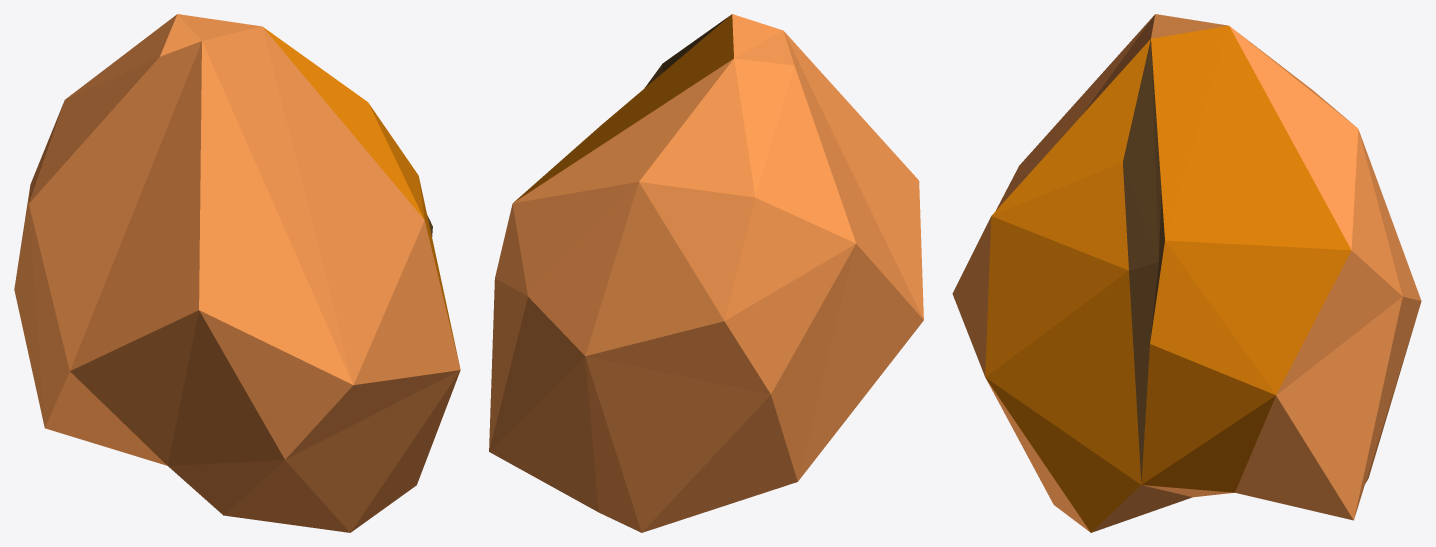
File: peach_fruit.fbx
3 renders of one model, left to right at view 1: azimuth 30°, elevation 25°; view 2: azimuth 150°, elevation 25°; view 3: azimuth 270°, elevation 25°, orthographic. The views are drawn at different scales.
Parts seen in each view (by area): view 1: Peach_4_1; view 2: Peach_4_1; view 3: Peach_4_1.
Boxes of the visible parts, bbox=[...] form: Peach_4_1: bbox=[14, 14, 460, 532]; Peach_4_1: bbox=[489, 14, 923, 532]; Peach_4_1: bbox=[952, 14, 1421, 532].
Size of the model in its own units: 19.75 by 22.98 by 21.74.
